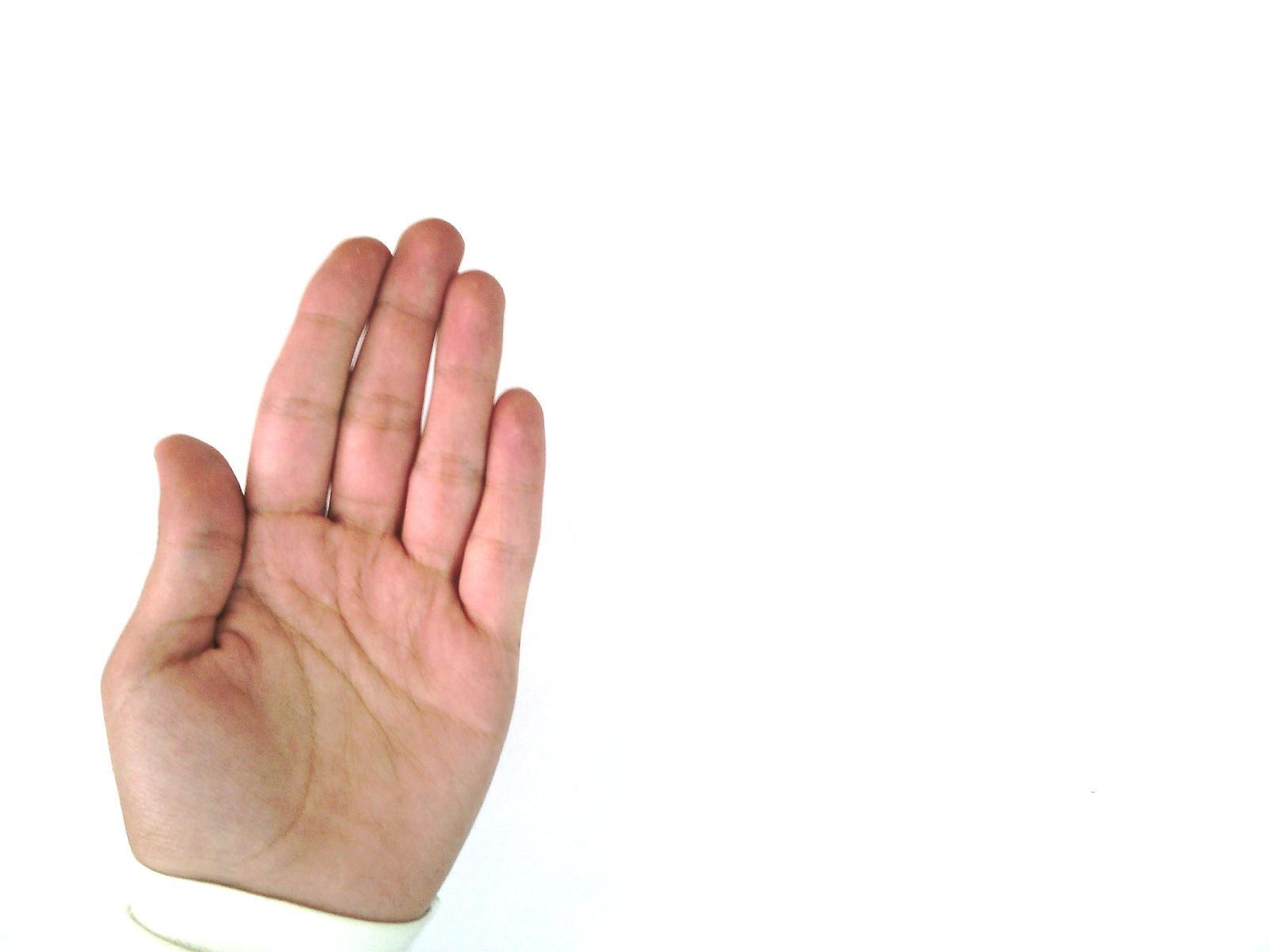open_palm: (98, 217, 550, 925)
